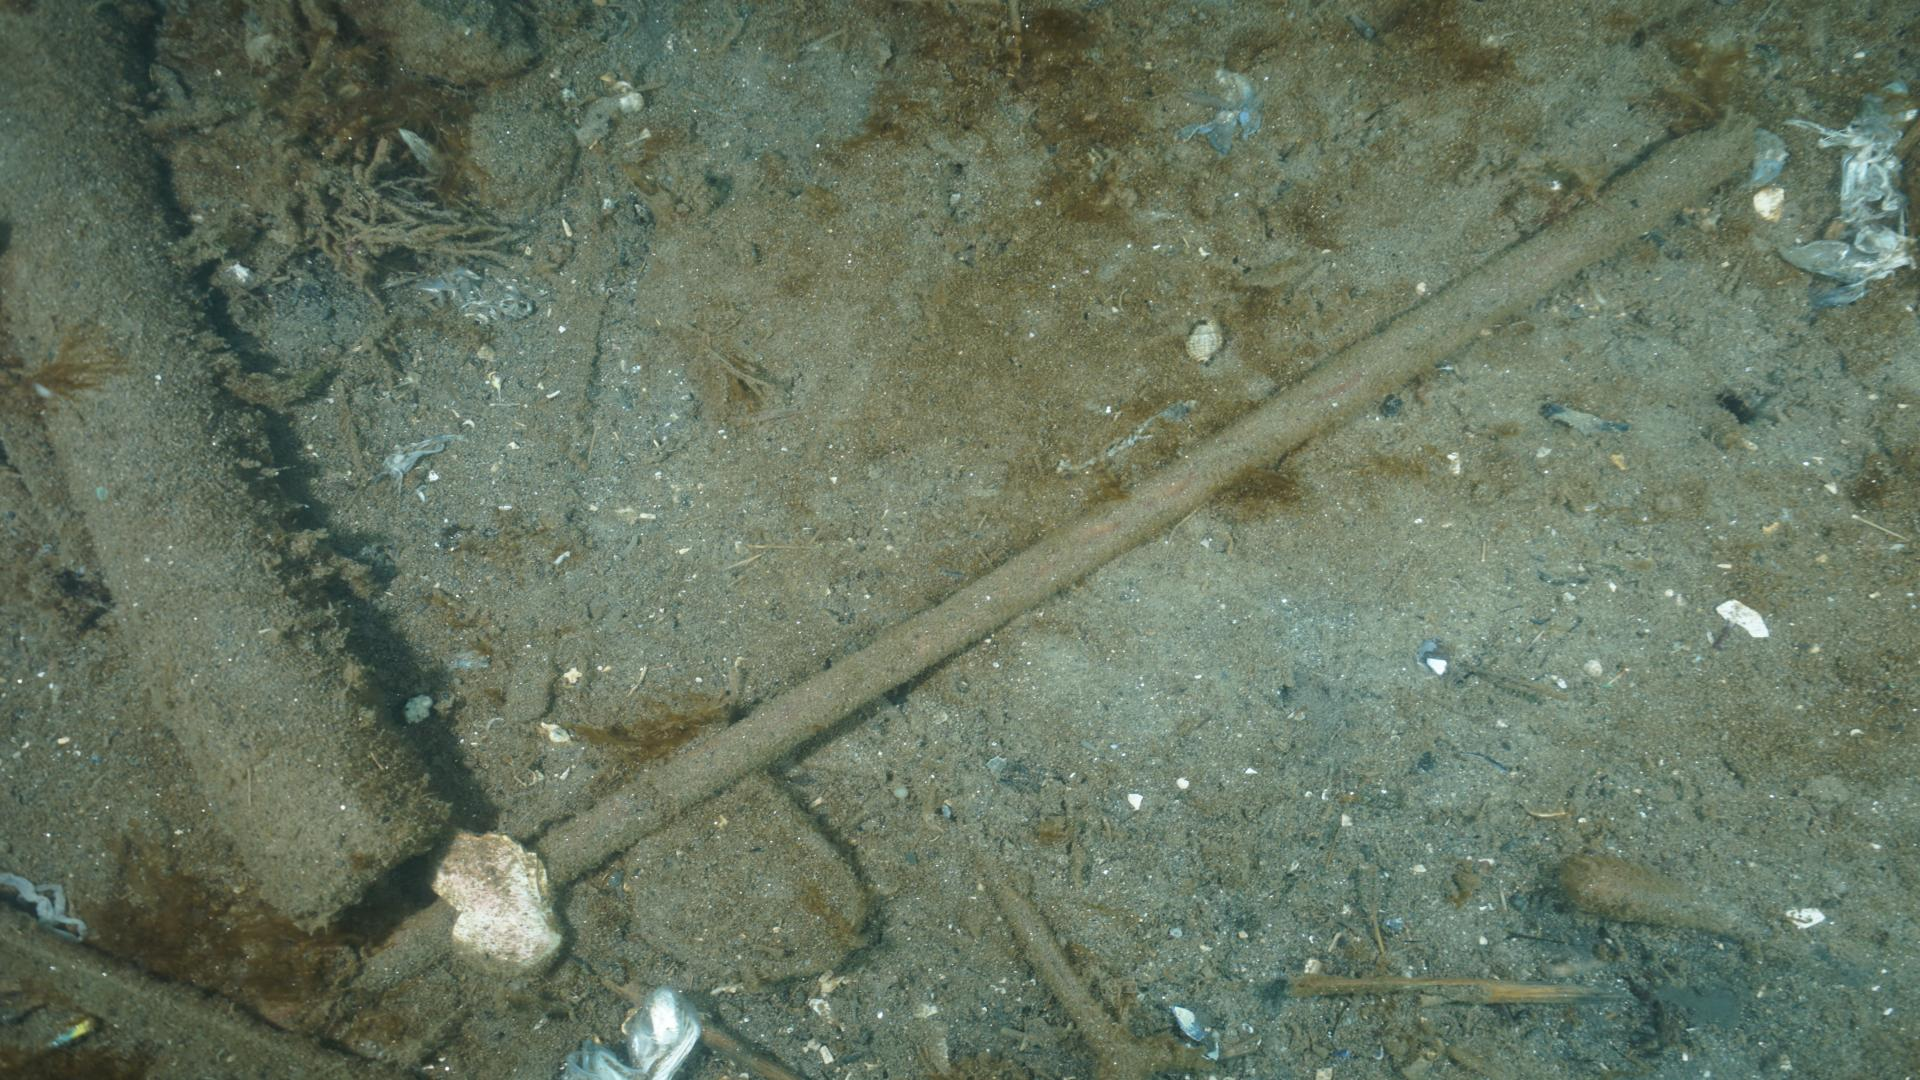wood: (353, 105, 1760, 990)
